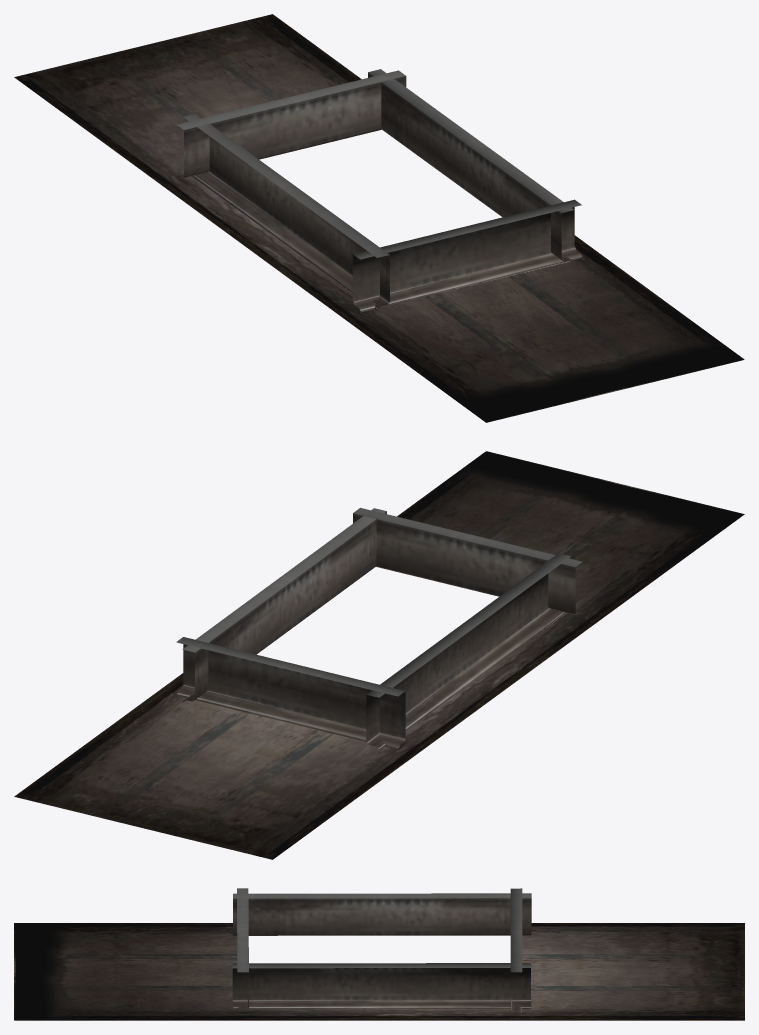
File: Ceiling.fbx
3 renders of one model, top to bottom at view 1: azimuth 30°, elevation 25°; view 2: azimuth 150°, elevation 25°; view 3: azimuth 270°, elevation 25°, orthographic. The views are drawn at different scales.
Parts seen in each view (by area): view 1: ceiling halll midle_ceiling halll midle_0, wall hall left_wall hall left_0; view 2: ceiling halll midle_ceiling halll midle_0, wall hall left_wall hall left_0; view 3: ceiling halll midle_ceiling halll midle_0, wall hall left_wall hall left_0.
Part boxes in pixels (x1=…): ceiling halll midle_ceiling halll midle_0: x1=14, y1=14, x2=744, y2=422; wall hall left_wall hall left_0: x1=176, y1=69, x2=581, y2=312; ceiling halll midle_ceiling halll midle_0: x1=14, y1=451, x2=744, y2=859; wall hall left_wall hall left_0: x1=176, y1=507, x2=582, y2=750; ceiling halll midle_ceiling halll midle_0: x1=14, y1=923, x2=744, y2=1020; wall hall left_wall hall left_0: x1=232, y1=888, x2=531, y2=1012.
Bounding box in the file's own units: 429 × 84.69 × 1356.
